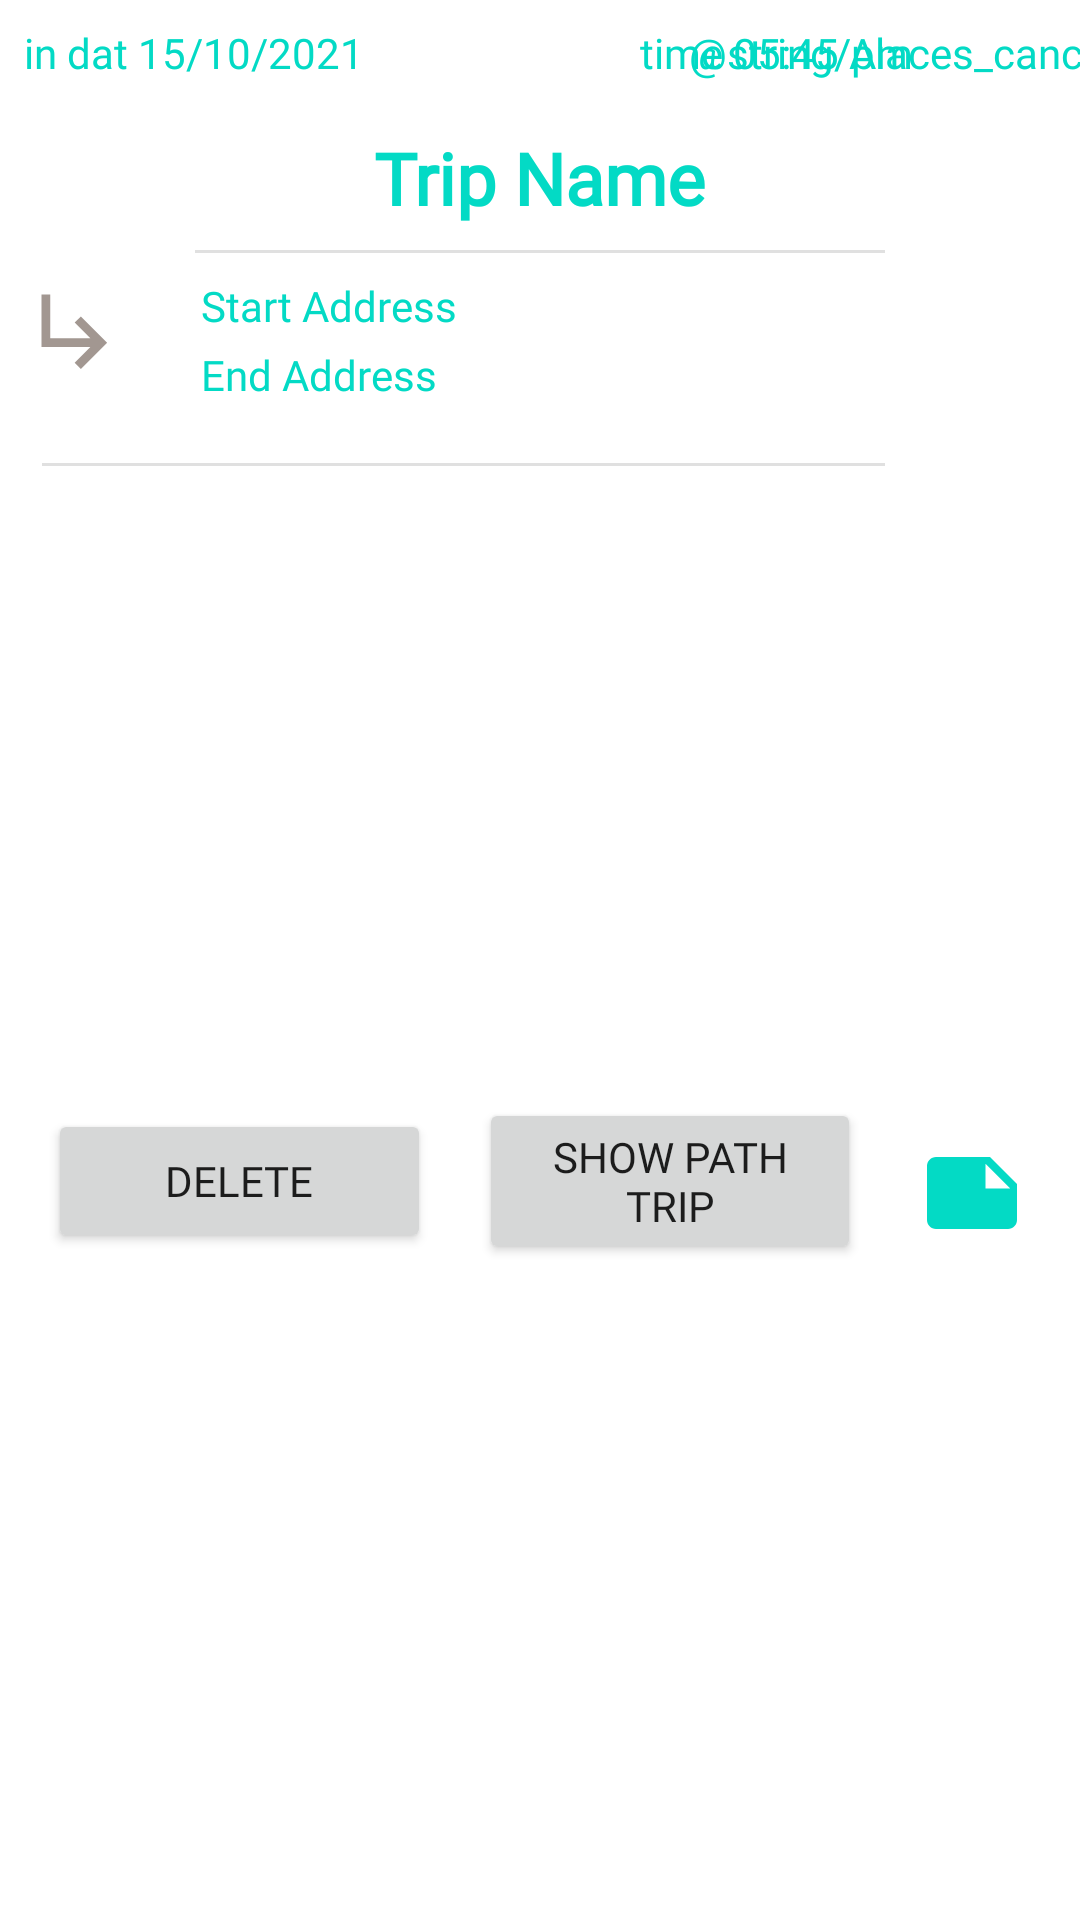

Where icons sit on this 1080x1920 app screen, as box=[x1, y1, x2, y2]:
note: box=[927, 1157, 1017, 1229]
subdirectory arrow right: box=[41, 294, 107, 369]
